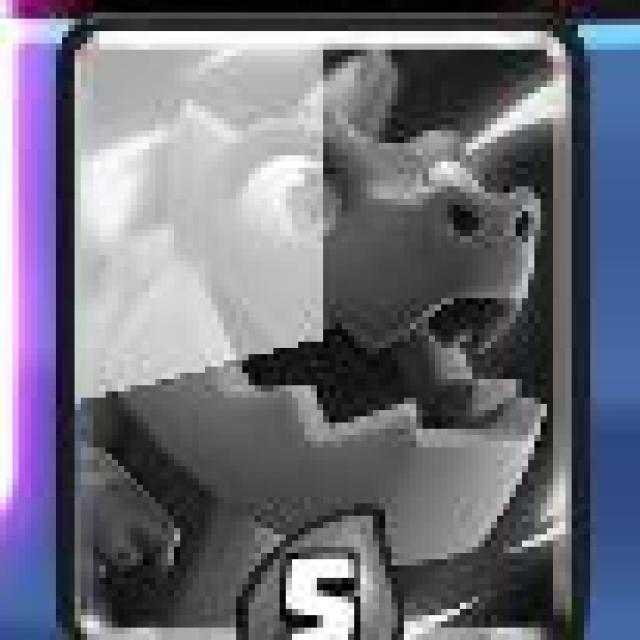Electro_Dragon: (56, 8, 593, 640)
